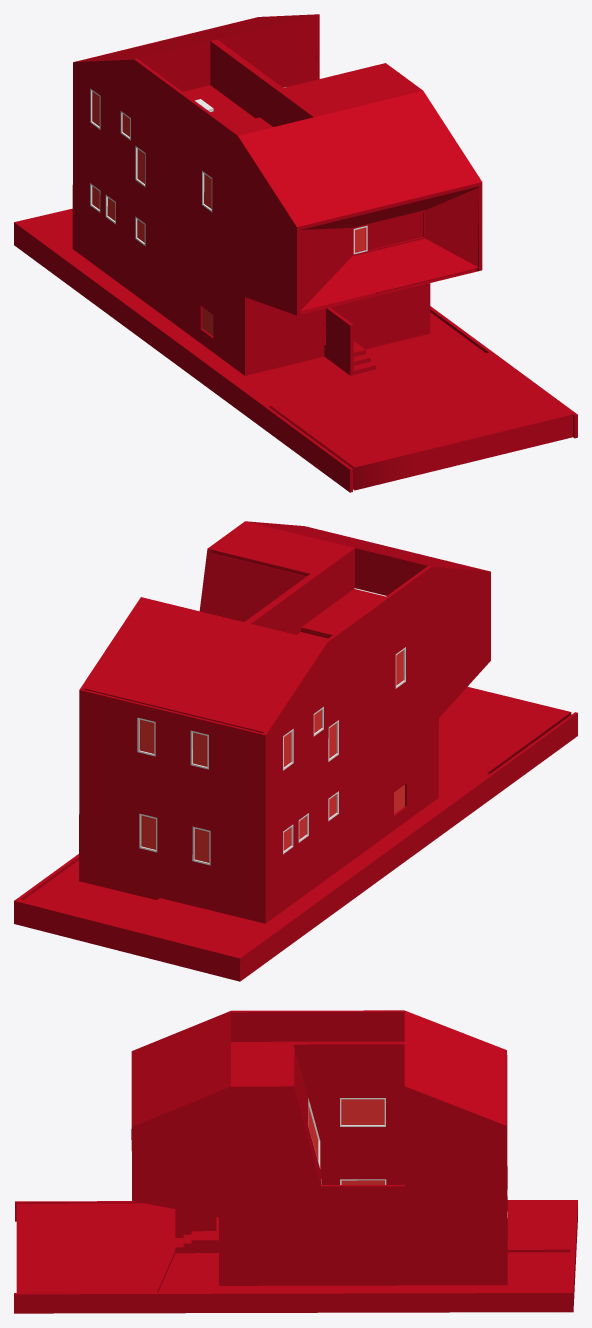
Rendered from asset.glb.
3 views of the same model, one above another, from view 1: azimuth 30°, elevation 25°; view 2: azimuth 150°, elevation 25°; view 3: azimuth 270°, elevation 25° (orthographic). The views are drawn at different scales.
Visible parts, largest first — view 1: 3D_FACADE_BLACK, 3D_FIRST FLOOR, 3D_FACADE_REFLECTIVE, 3D_SURROUNDING CONTEXT, 3D_WALL, 3D_WINDOW FRAMES, 3d_Glass, 3D_TURF, 3D_FACADE_REFLECTIVE.001, Windows frames, 3D_FLOOR, 3D_FACADE_WHITE; view 2: 3D_FACADE_BLACK, 3D_FIRST FLOOR, 3D_SURROUNDING CONTEXT, 3D_FACADE_WHITE, 3D_TURF, 3d_Glass, 3D_WINDOW FRAMES, Windows frames, 3D_FLOOR, 3D_WALL; view 3: 3D_FACADE_BLACK, 3D_FIRST FLOOR, 3D_SURROUNDING CONTEXT, 3D_FACADE_WHITE, 3D_TURF, 3d_Glass, Windows frames.
Part boxes in pixels (x1,y1,x2,y2): 3D_FACADE_BLACK: [72, 14, 482, 363]; 3D_FIRST FLOOR: [31, 212, 572, 490]; 3D_FACADE_REFLECTIVE: [300, 186, 478, 314]; 3D_SURROUNDING CONTEXT: [14, 208, 577, 492]; 3D_WALL: [141, 18, 316, 91]; 3D_WINDOW FRAMES: [210, 44, 309, 126]; 3d_Glass: [92, 91, 423, 251]; 3D_TURF: [366, 312, 485, 369]; 3D_FACADE_REFLECTIVE.001: [425, 187, 478, 266]; Windows frames: [90, 87, 425, 336]; 3D_FLOOR: [183, 85, 476, 293]; 3D_FACADE_WHITE: [210, 39, 282, 91]; 3D_FACADE_BLACK: [79, 521, 490, 911]; 3D_FIRST FLOOR: [79, 686, 571, 950]; 3D_SURROUNDING CONTEXT: [14, 712, 577, 981]; 3D_FACADE_WHITE: [203, 553, 317, 624]; 3D_TURF: [24, 860, 156, 924]; 3d_Glass: [139, 650, 403, 862]; 3D_WINDOW FRAMES: [254, 552, 354, 634]; Windows frames: [137, 647, 405, 865]; 3D_FLOOR: [297, 588, 386, 641]; 3D_WALL: [355, 551, 424, 595]; 3D_FACADE_BLACK: [131, 1010, 507, 1272]; 3D_FIRST FLOOR: [16, 1201, 571, 1292]; 3D_SURROUNDING CONTEXT: [14, 1200, 577, 1313]; 3D_FACADE_WHITE: [293, 1041, 404, 1184]; 3D_TURF: [158, 1252, 569, 1292]; 3d_Glass: [308, 1099, 384, 1184]; Windows frames: [308, 1098, 507, 1217].
Bounding box in the file's own units: 99.01 × 108 × 254.
